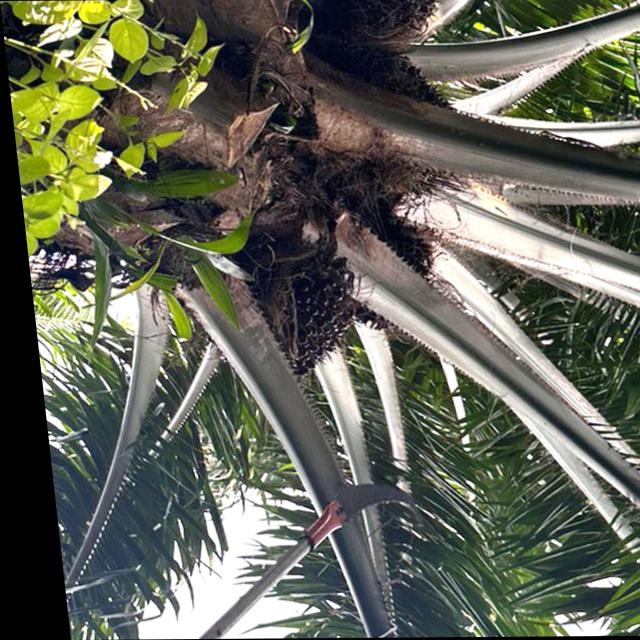unripe: (230, 217, 370, 384)
